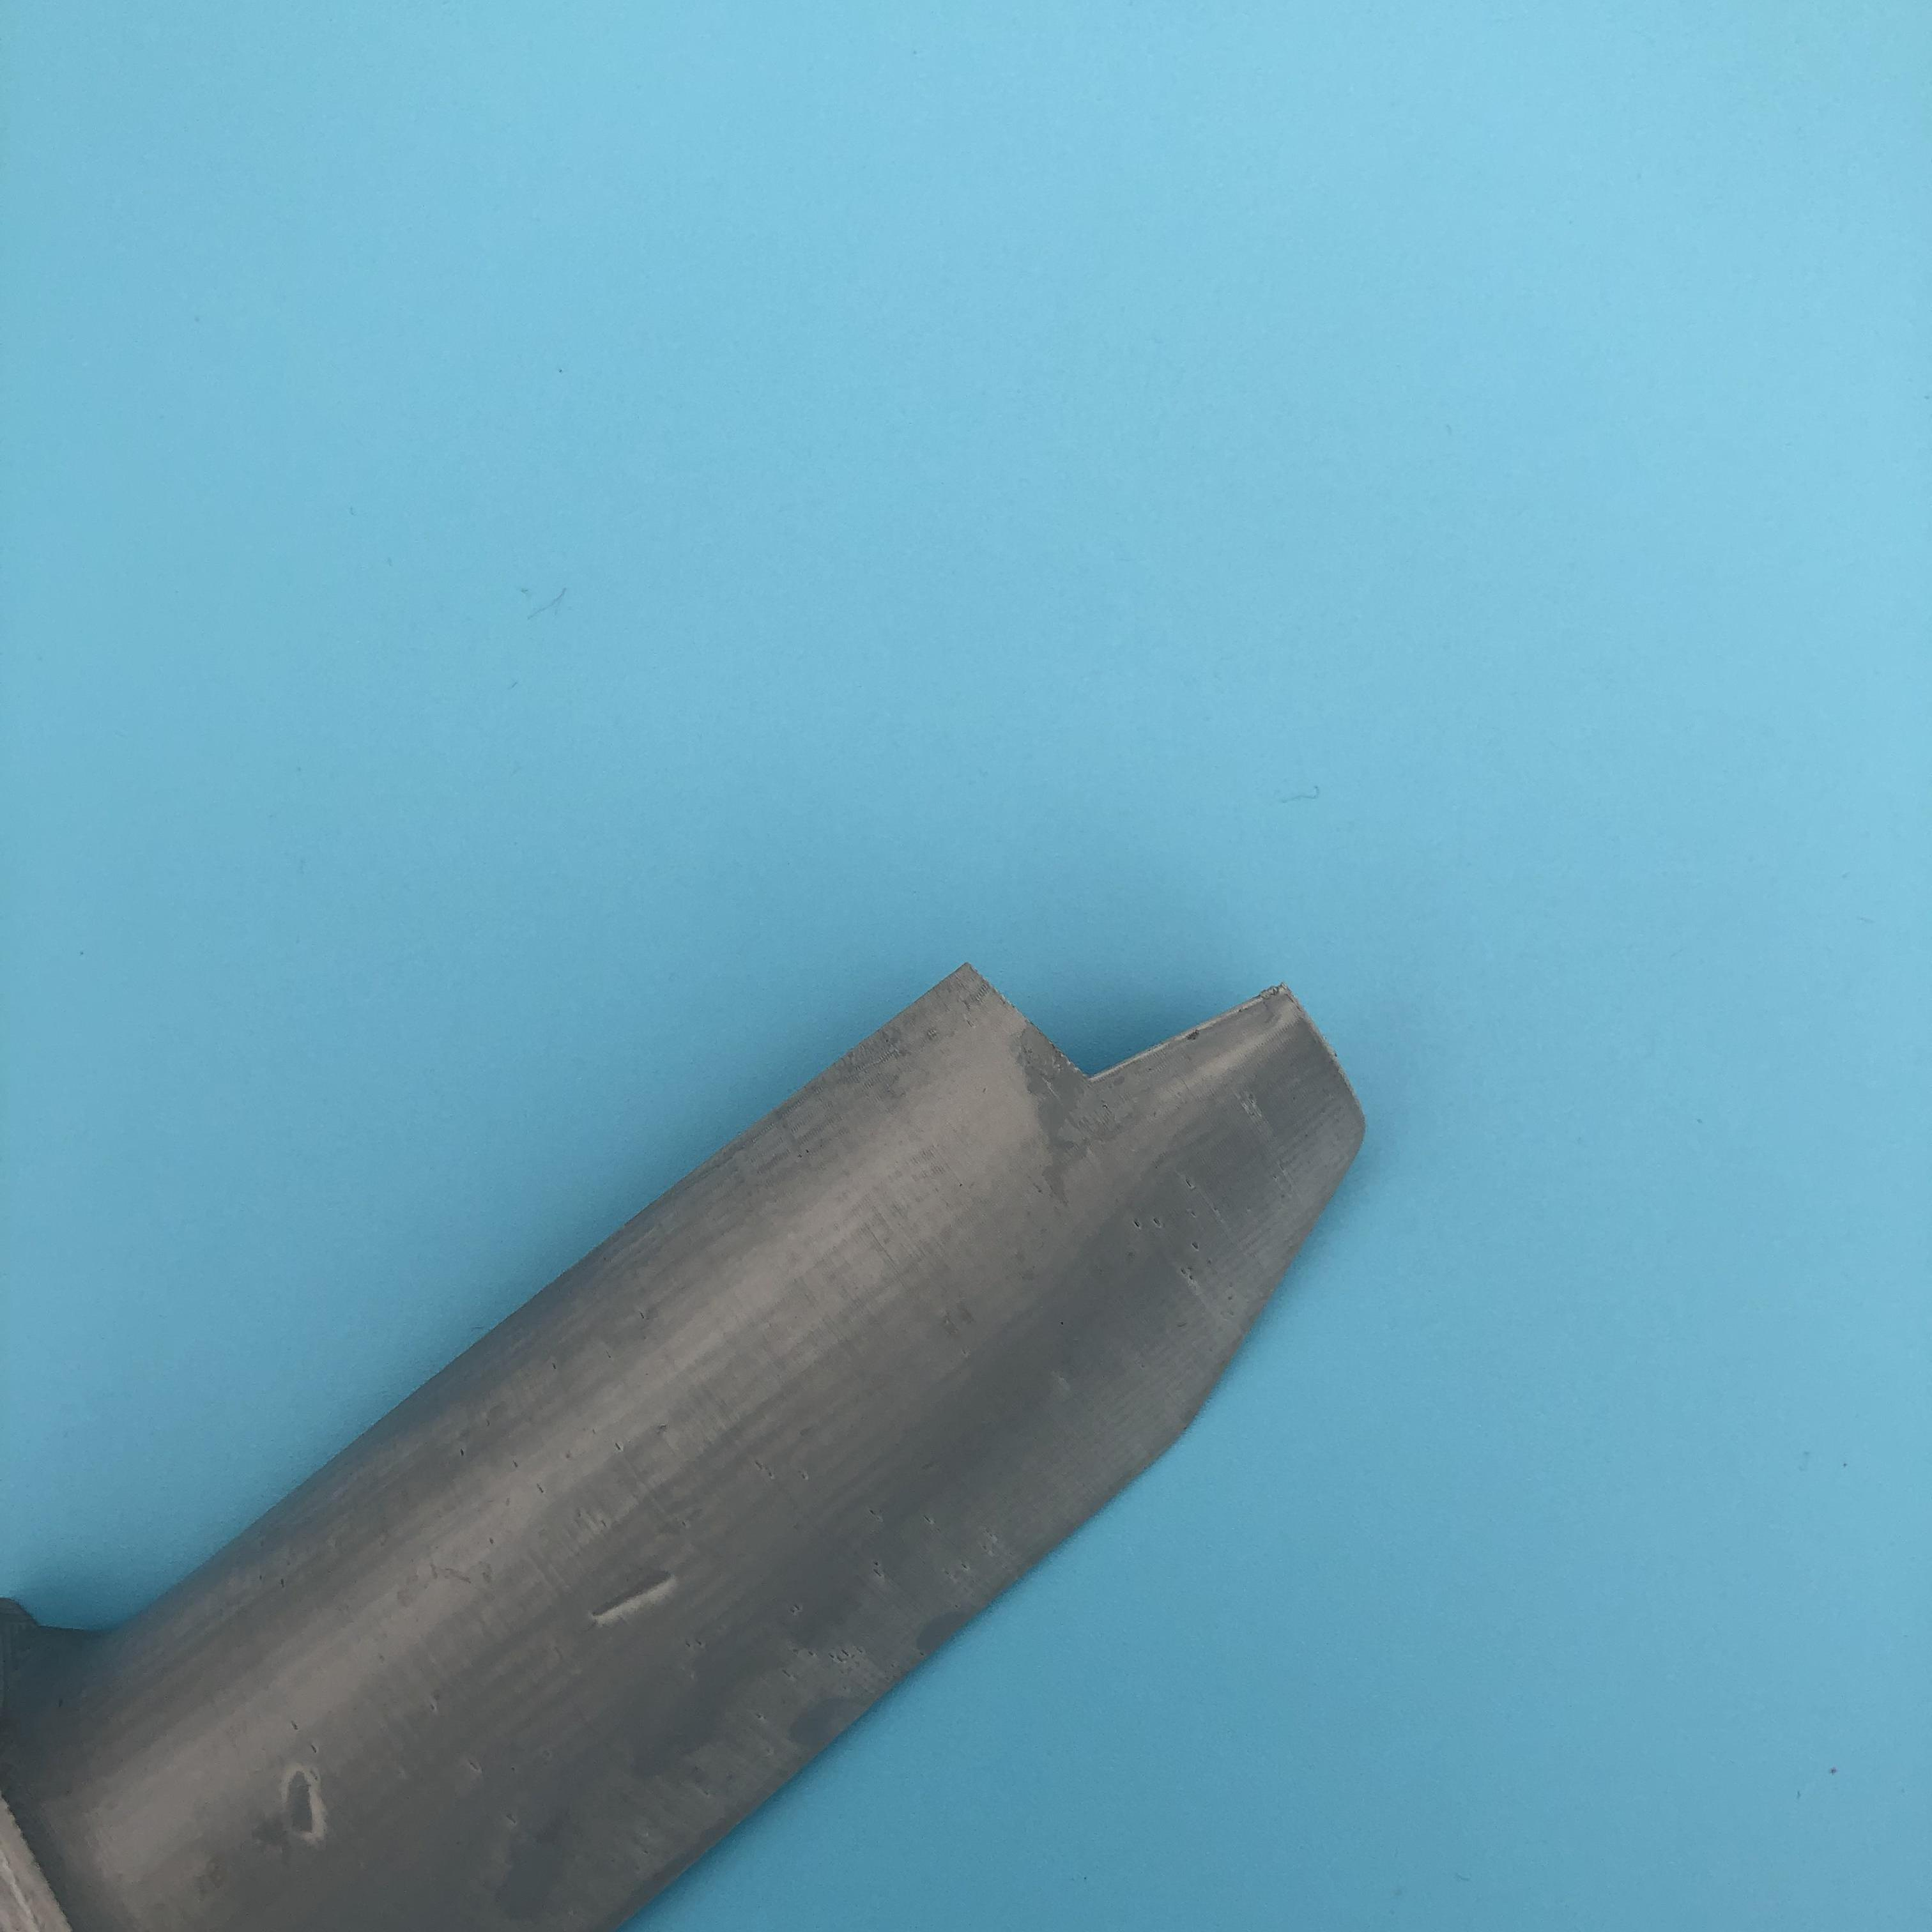fracture: (941, 950, 1284, 1088)
